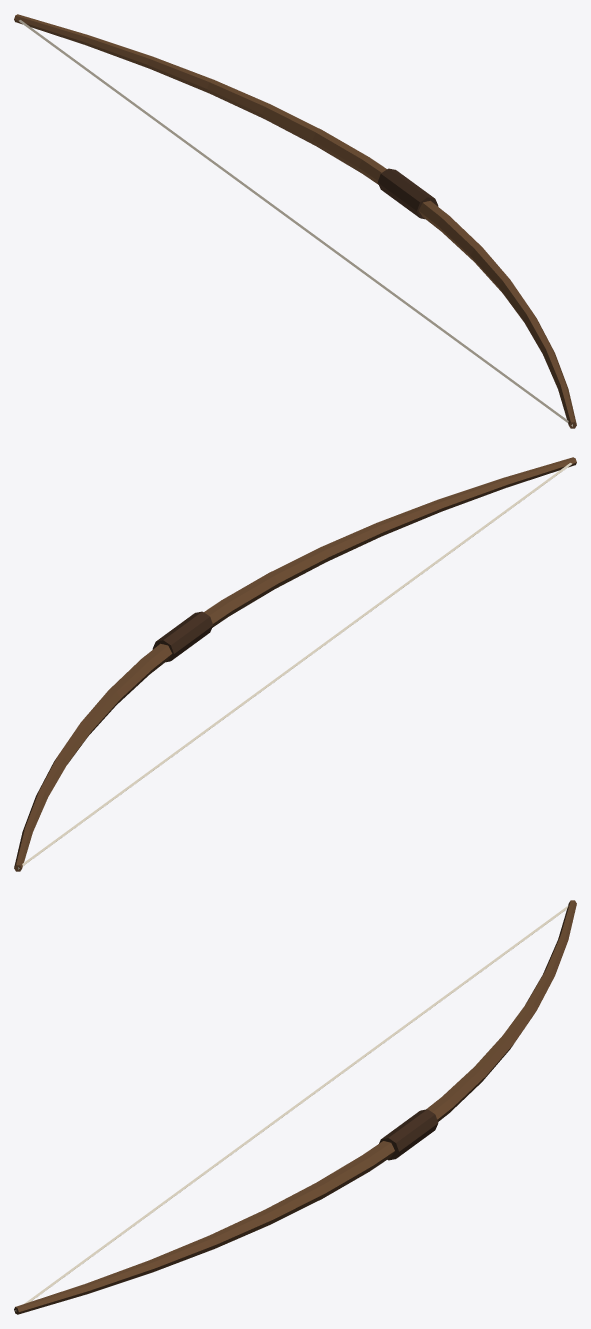
File: g-longbow.glb
3 views of the same model, one above another, from view 1: azimuth 30°, elevation 25°; view 2: azimuth 150°, elevation 25°; view 3: azimuth 330°, elevation 25° (orthographic).
Visible parts, largest first — view 1: g-longbow; view 2: g-longbow; view 3: g-longbow.
Boxes of the visible parts, x1,y1,x2,y2 form: g-longbow: (14, 14, 576, 428); g-longbow: (14, 457, 576, 871); g-longbow: (14, 900, 576, 1314).
Size of the model in its own units: 0.2248 by 0.038 by 1.71.
